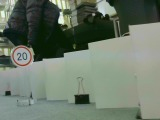speed_20: (10, 44, 33, 68)
